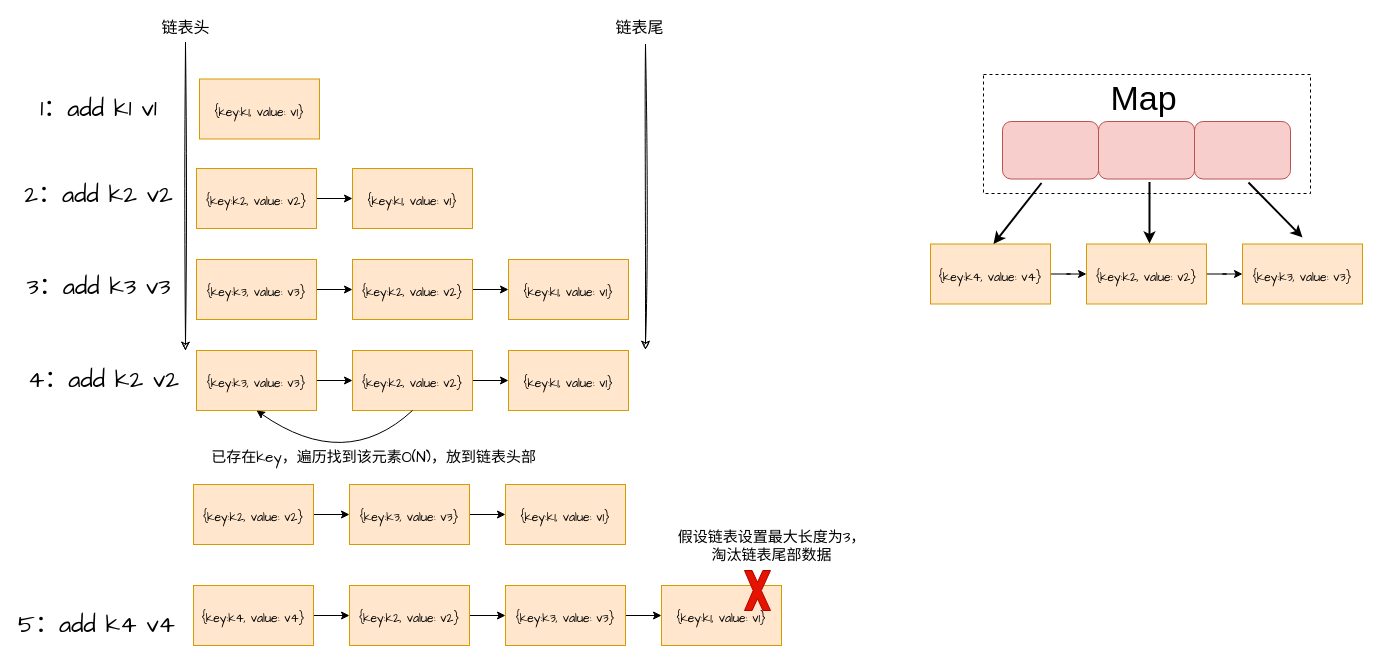
Image size: 1380x663. Some labels were removed from this diagram. The centre of each missing label's shape, as x and y in pixels:
key: k2: (1146,149)
key: k3: (1242,149)
key: k4: (1050,149)
